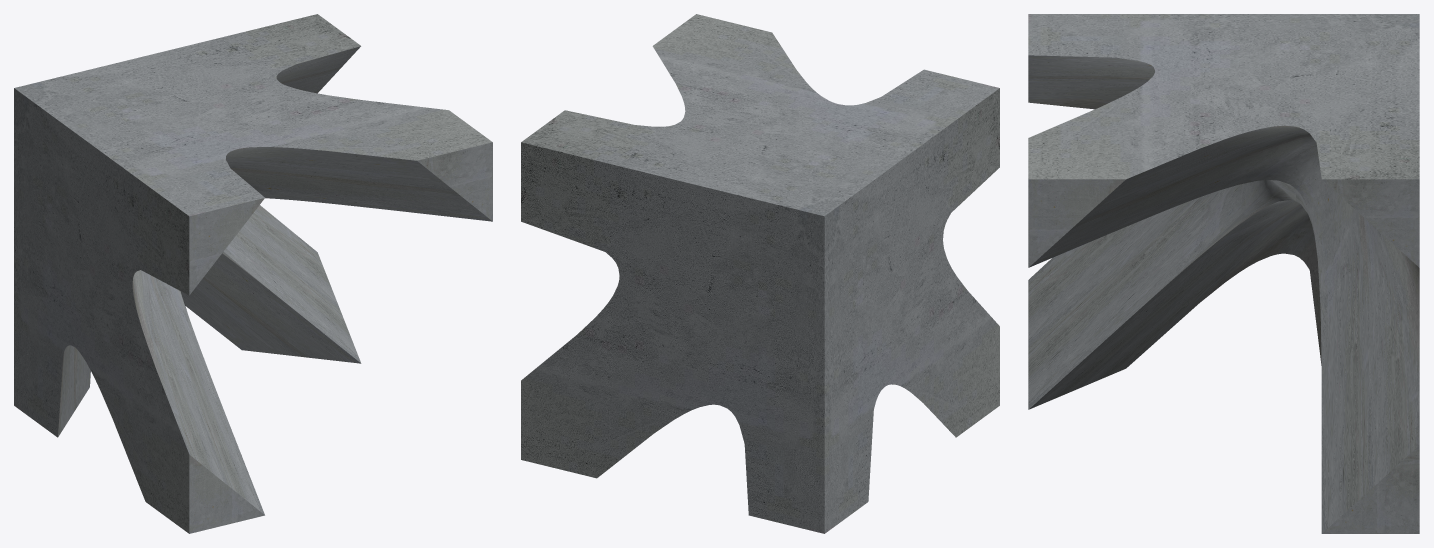
Rendered from module_T4.fbx.
3 renders of one model, left to right at view 1: azimuth 30°, elevation 25°; view 2: azimuth 150°, elevation 25°; view 3: azimuth 270°, elevation 25°, orthographic. The views are drawn at different scales.
Parts seen in each view (by area): view 1: modules; view 2: modules; view 3: modules.
Part boxes in pixels (x1,y1,x2,y2): modules: [14, 14, 492, 533]; modules: [521, 14, 999, 533]; modules: [1028, 14, 1419, 533].
Size of the model in its own units: 1000 by 1000 by 1000.
1 material, 1 textured.
